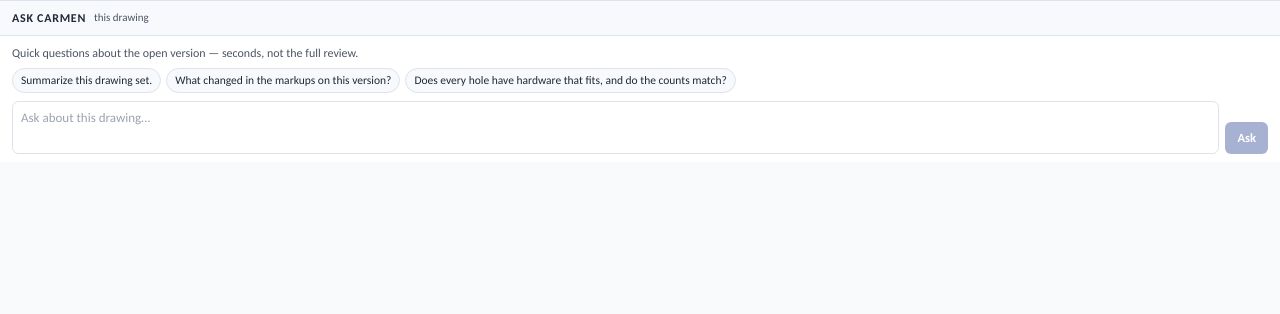
Test: DrawingChat answer rendering › turns "- " lines into a real list
Click the button "Summarize this drawing set.": (87, 81) [12,68,161,93]
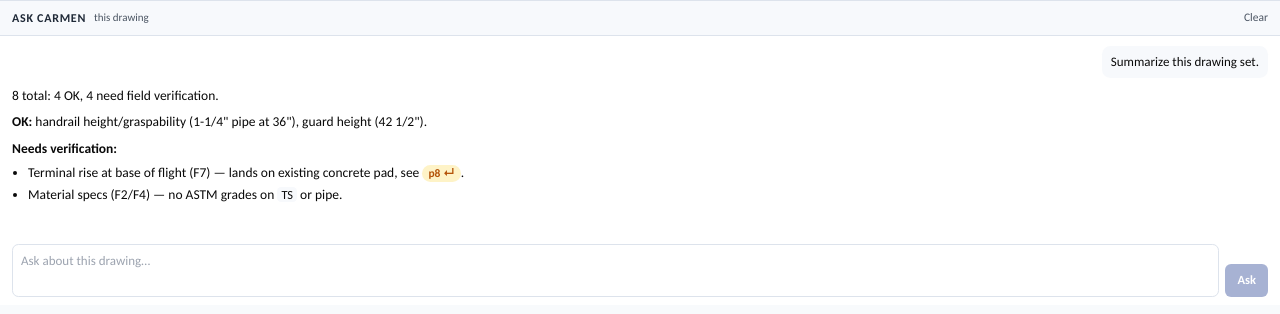
Check: the number of list items is 2, box [28,164,464,182]; [28,186,342,203]
Check: the 1st list item shows "Terminal rise at base of flight", box [28,164,422,181]
